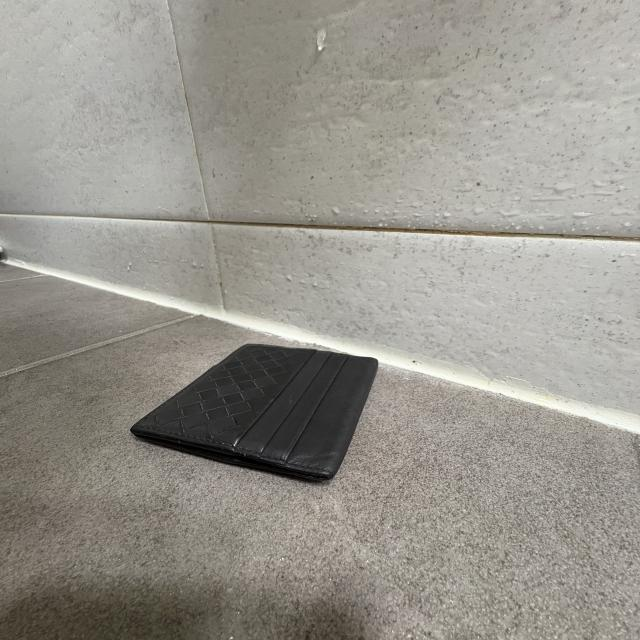wallet: (134, 343, 378, 486)
